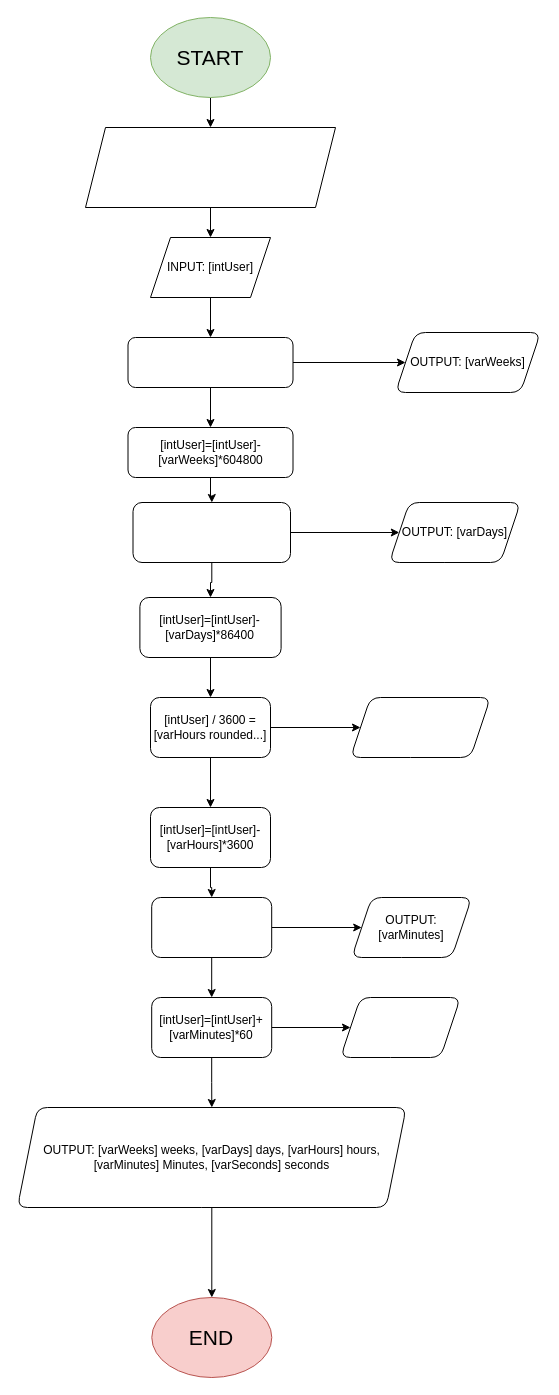
Image size: 559x1395. Some labels were removed from this diagram. Here are the shapes that lost their labels. From the top down, the centre of each, then its label:
At point (210, 167): "OUTPUT: Please type in any amount of seconds.".
At point (210, 362): "[intUser] / 604800 = [varWeeks rounded down to 0 decimal places]".
At point (211, 532): "[intUser] / 86400 = [varDays rounded down to 0 decimal places]".
At point (420, 727): "OUTPUT: [varHours]".
At point (211, 927): "[intUser] / 60 = [varMinutes rounded...]".
At point (400, 1027): "OUTPUT: [varSeconds]".
